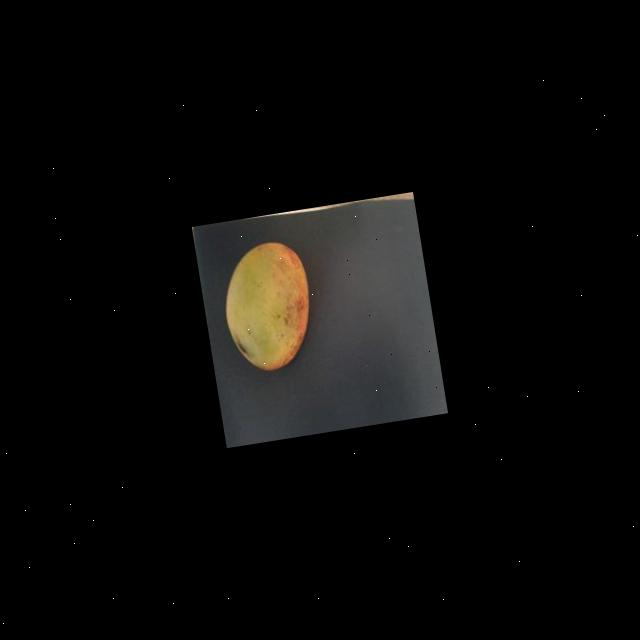Mango: (214, 236, 320, 376)
